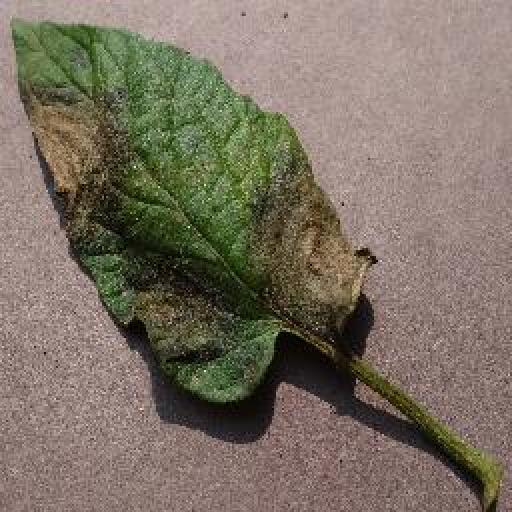Late Blight: (11, 16, 377, 407)
